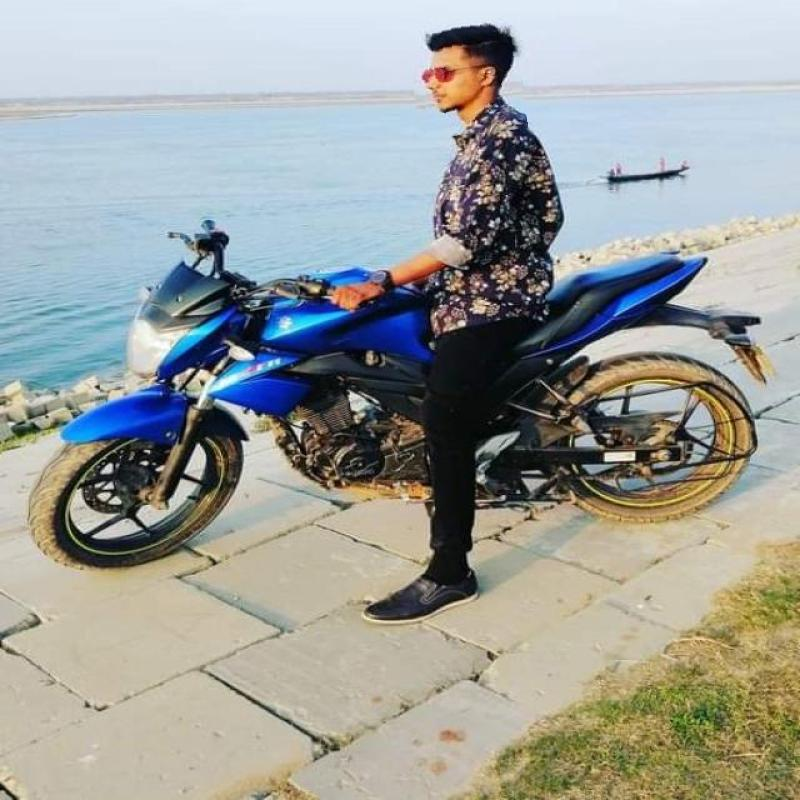nohelmet: (410, 17, 526, 137)
